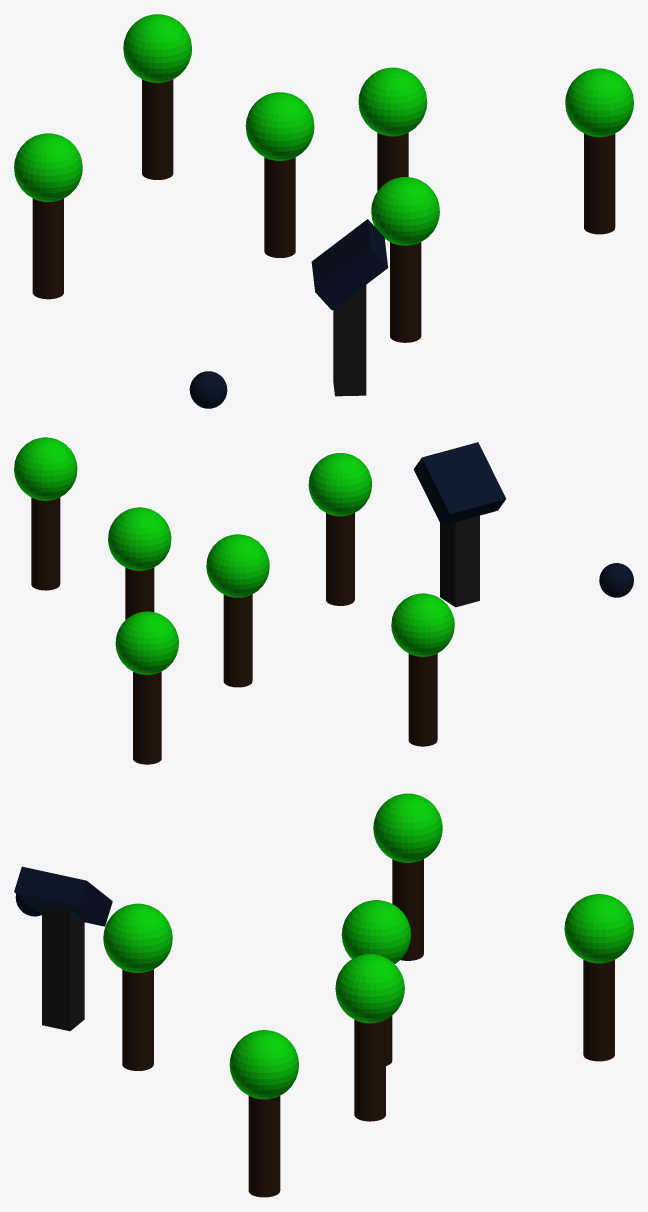
The model's file is exercise20043.obj.
3 views of the same model, one above another, from view 1: azimuth 30°, elevation 25°; view 2: azimuth 150°, elevation 25°; view 3: azimuth 270°, elevation 25° (orthographic). The views are drawn at different scales.
Parts seen in each view (by area): view 1: Cube.001, Sphere.003, Sphere.002, Sphere.006, Sphere, Sphere.005, Sphere.004, Cube, Cylinder.004, Cylinder.003, Cylinder.006, Cylinder.005 (+4 smaller); view 2: Cube.001, Cube, Sphere.002, Sphere.004, Sphere.005, Sphere, Sphere.006, Sphere.003, Cylinder.002, Cylinder.003, Cylinder.006, Cylinder.005 (+4 smaller); view 3: Cube, Sphere.006, Sphere.005, Sphere, Sphere.003, Sphere.004, Sphere.002, Cube.001, Cylinder.003, Cylinder.005, Cylinder.004, Cylinder (+2 smaller).
Part boxes in pixels (left/top/right/bottom): Cube.001: left=311, top=219, right=387, bottom=310; Sphere.003: left=565, top=68, right=633, bottom=137; Sphere.002: left=245, top=92, right=314, bottom=160; Sphere.006: left=14, top=133, right=82, bottom=201; Sphere: left=358, top=67, right=427, bottom=136; Sphere.005: left=123, top=14, right=191, bottom=82; Sphere.004: left=371, top=177, right=439, bottom=245; Cube: left=333, top=285, right=366, bottom=396; Cylinder.004: left=390, top=242, right=421, bottom=342; Cylinder.003: left=584, top=133, right=615, bottom=234; Cylinder.006: left=32, top=198, right=63, bottom=299; Cylinder.005: left=142, top=79, right=173, bottom=179; Cube.001: left=413, top=442, right=506, bottom=525; Cube: left=440, top=515, right=479, bottom=607; Sphere.002: left=206, top=534, right=269, bottom=597; Sphere.004: left=308, top=453, right=371, bottom=516; Sphere.005: left=115, top=611, right=178, bottom=674; Sphere: left=108, top=507, right=171, bottom=570; Sphere.006: left=391, top=593, right=454, bottom=656; Sphere.003: left=14, top=437, right=77, bottom=500; Cylinder.002: left=223, top=594, right=252, bottom=687; Cylinder.003: left=31, top=497, right=60, bottom=590; Cylinder.006: left=408, top=653, right=437, bottom=746; Cylinder.005: left=133, top=671, right=161, bottom=764; Cube: left=42, top=903, right=84, bottom=1031; Sphere.006: left=373, top=793, right=442, bottom=862; Sphere.005: left=564, top=894, right=633, bottom=963; Sphere: left=335, top=954, right=404, bottom=1023; Sphere.003: left=229, top=1030, right=298, bottom=1099; Sphere.004: left=103, top=903, right=172, bottom=972; Sphere.002: left=341, top=900, right=411, bottom=963; Cube.001: left=14, top=866, right=112, bottom=926; Cylinder.003: left=248, top=1096, right=280, bottom=1197; Cylinder.005: left=583, top=959, right=614, bottom=1061; Cylinder.004: left=122, top=969, right=153, bottom=1070; Cylinder: left=354, top=1020, right=385, bottom=1121.
Size of what is drawn, in the model's own units: 40.53 by 11.23 by 39.13.
